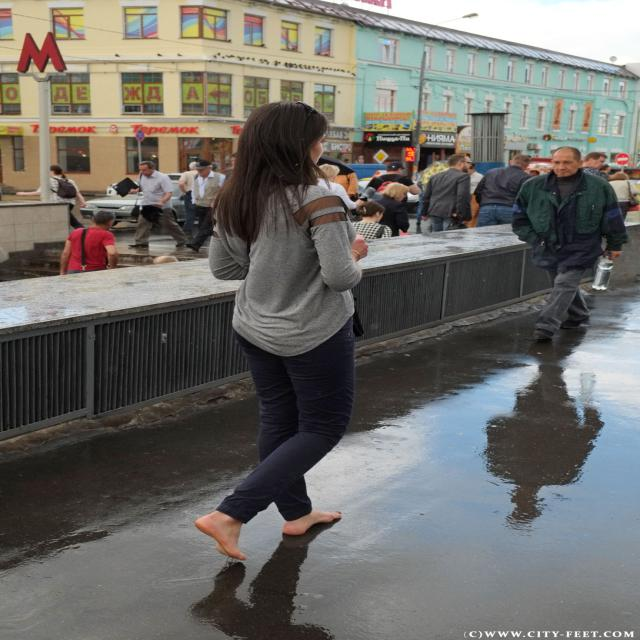Barefoots: (195, 513, 246, 560), (282, 510, 342, 535)
